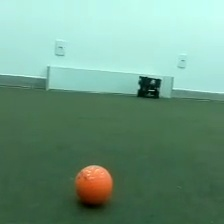ball: (70, 161, 116, 208)
goal: (43, 62, 175, 100)
robot: (135, 72, 162, 100)
